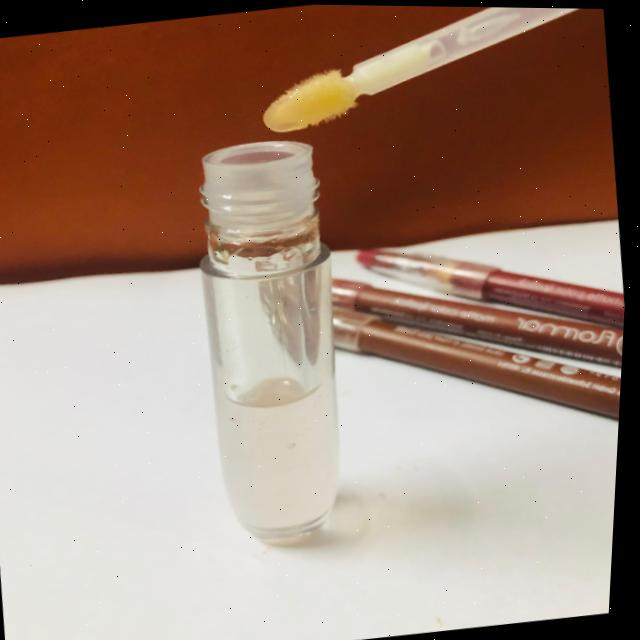lip gloss: (170, 108, 384, 583), (216, 12, 409, 183)
lip liner: (312, 184, 633, 481)
